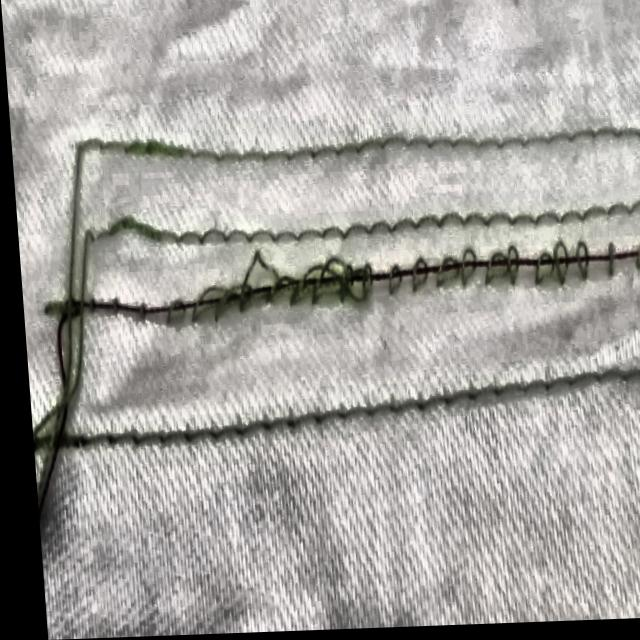Stitch: (381, 230, 640, 338), (159, 250, 377, 357), (17, 289, 130, 491)
